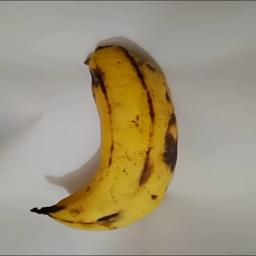Banana Semifresh: (25, 41, 181, 235)
